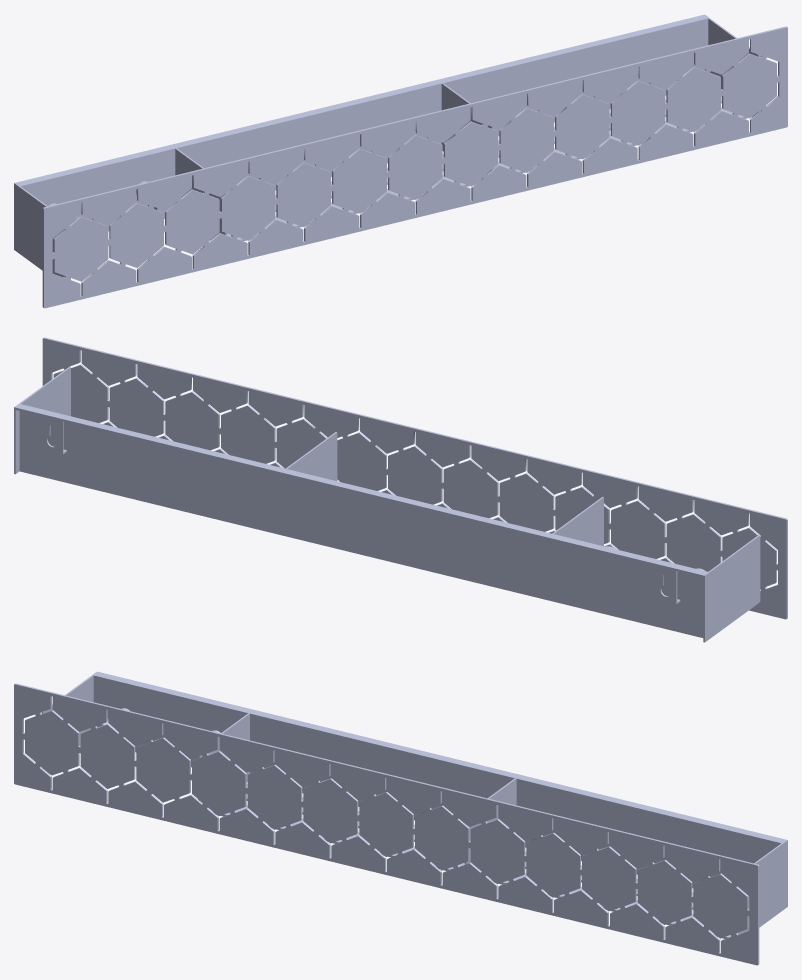
The model's file is bee-patron.4d048d73ce.glb.
3 views of the same model, one above another, from view 1: azimuth 30°, elevation 25°; view 2: azimuth 150°, elevation 25°; view 3: azimuth 330°, elevation 25° (orthographic).
Visible parts, largest first — view 1: NAUO1; view 2: NAUO1; view 3: NAUO1.
Part boxes in pixels (<box>): NAUO1: <box>14,14,787,308</box>; NAUO1: <box>14,337,787,642</box>; NAUO1: <box>14,671,787,965</box>.
Size of the model in its own units: 0.7 by 0.09 by 0.092.
